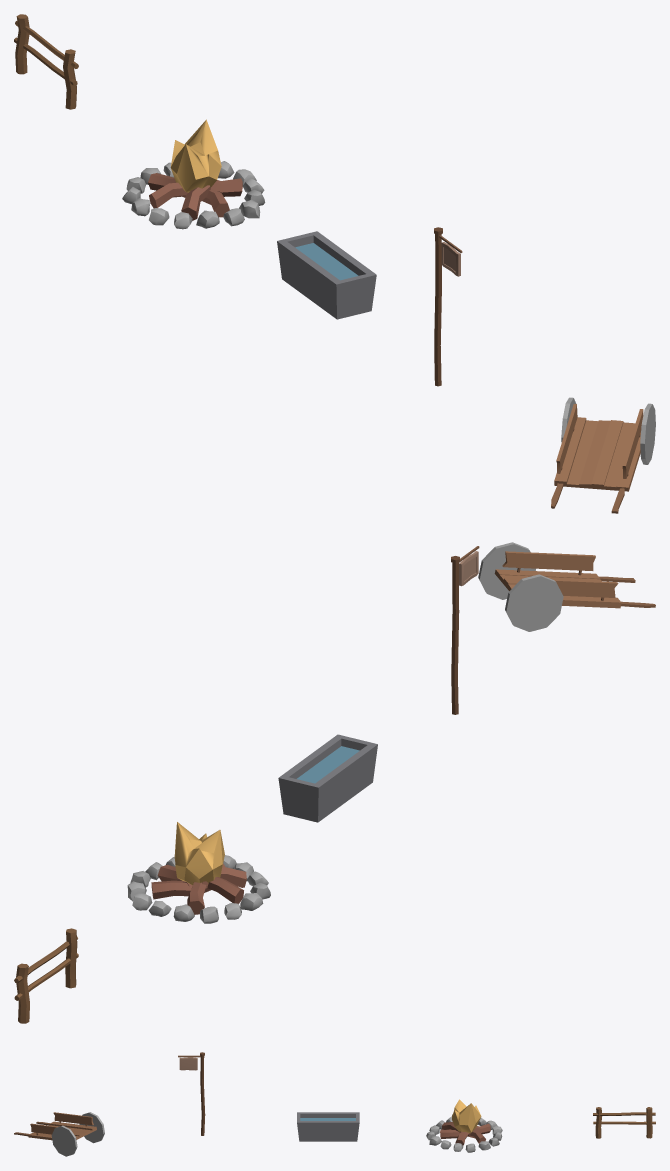
File: Objets_div.fbx
3 views of the same model, one above another, from view 1: azimuth 30°, elevation 25°; view 2: azimuth 150°, elevation 25°; view 3: azimuth 270°, elevation 25° (orthographic). The views are drawn at different scales.
Visible parts, largest first — view 1: pasted__pCube41, pasted__pCube63, pasted__pasted__pasted__pPlatonic1, pasted__pCylinder5, pasted__pPlane4, pasted__pCylinder11; view 2: pasted__pCube41, pasted__pCylinder10, pasted__pasted__pasted__pPlatonic1, pasted__pCube63, pasted__pCube67, pasted__pCylinder11, pasted__pCylinder5, pasted__pCube66, pasted__pPlane4; view 3: pasted__pCube41, pasted__pasted__pasted__pPlatonic1, pasted__pCylinder11, pasted__pCube63, pasted__pCylinder10, pasted__pCube66, pasted__pCylinder5, pasted__pCube46, pasted__pCube67, pasted__pCylinder2, pasted__pCylinder3, pasted__pCylinder1 (+2 smaller).
Part boxes in pixels (x1=…): pasted__pCube41: x1=277, y1=231, x2=376, y2=319; pasted__pCube63: x1=554, y1=417, x2=640, y2=491; pasted__pasted__pasted__pPlatonic1: x1=170, y1=119, x2=221, y2=192; pasted__pCylinder5: x1=434, y1=227, x2=442, y2=386; pasted__pPlane4: x1=295, y1=243, x2=358, y2=280; pasted__pCylinder11: x1=640, y1=403, x2=655, y2=464; pasted__pCube41: x1=278, y1=734, x2=377, y2=822; pasted__pCylinder10: x1=505, y1=574, x2=563, y2=631; pasted__pasted__pasted__pPlatonic1: x1=174, y1=822, x2=224, y2=885; pasted__pCube63: x1=494, y1=569, x2=621, y2=608; pasted__pCube67: x1=502, y1=551, x2=595, y2=570; pasted__pCylinder11: x1=478, y1=542, x2=535, y2=599; pasted__pCylinder5: x1=451, y1=556, x2=459, y2=714; pasted__pCube66: x1=552, y1=579, x2=618, y2=597; pasted__pPlane4: x1=297, y1=746, x2=359, y2=783; pasted__pCube41: x1=297, y1=1112, x2=359, y2=1141; pasted__pasted__pasted__pPlatonic1: x1=451, y1=1099, x2=481, y2=1133; pasted__pCylinder11: x1=51, y1=1125, x2=77, y2=1156; pasted__pCube63: x1=28, y1=1121, x2=96, y2=1140; pasted__pCylinder10: x1=79, y1=1112, x2=104, y2=1143; pasted__pCube66: x1=53, y1=1112, x2=93, y2=1125; pasted__pCylinder5: x1=200, y1=1052, x2=205, y2=1135; pasted__pCube46: x1=179, y1=1057, x2=197, y2=1070; pasted__pCube67: x1=30, y1=1123, x2=69, y2=1134; pasted__pCylinder2: x1=646, y1=1107, x2=652, y2=1138; pasted__pCylinder3: x1=593, y1=1121, x2=655, y2=1124; pasted__pCylinder1: x1=593, y1=1112, x2=655, y2=1115.
Size of the model in its own units: 13.87 by 13.6 by 95.53.
